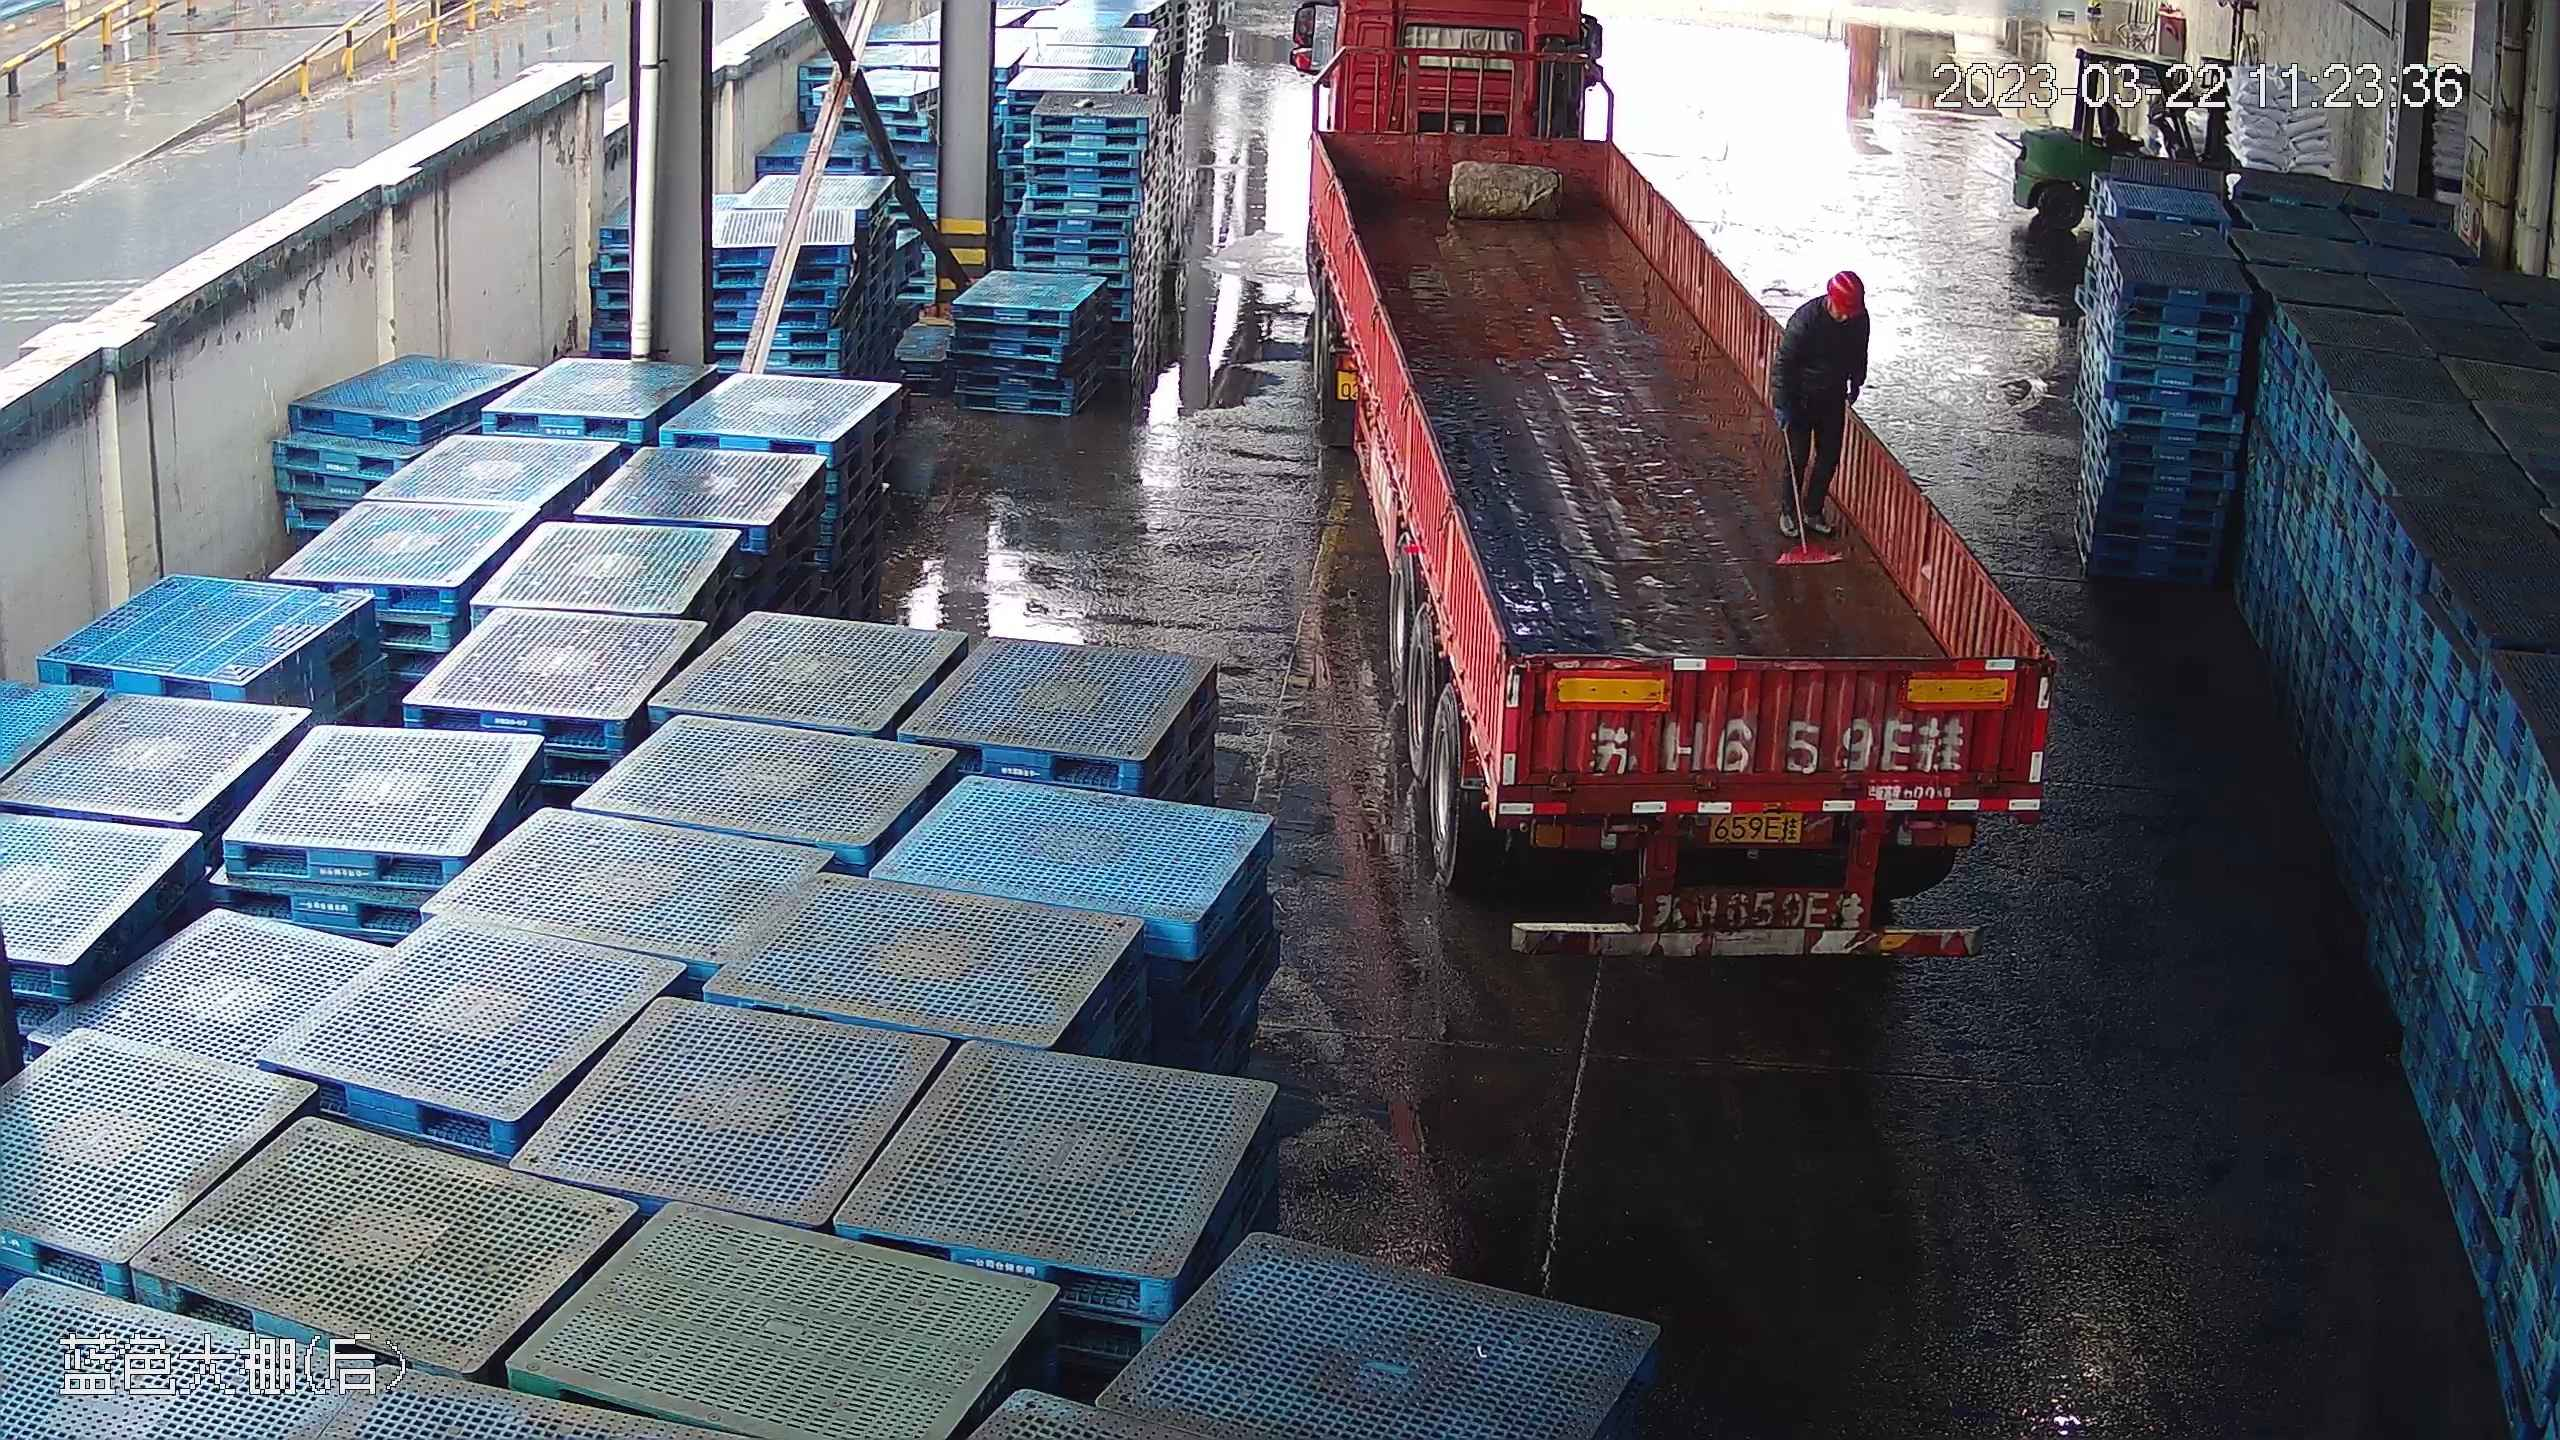head: (1790, 265, 1867, 338)
helmet: (1828, 267, 1866, 304)
people: (1770, 266, 1872, 547)
truck: (1288, 9, 2053, 973)
